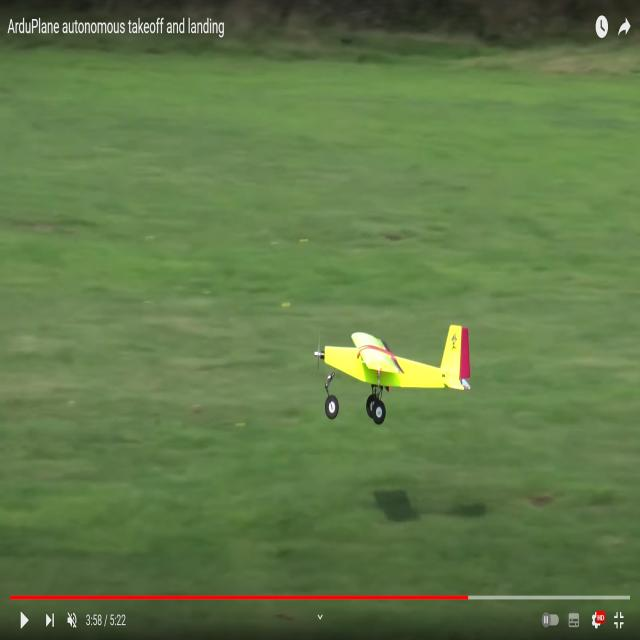iha: (304, 362, 468, 394)
